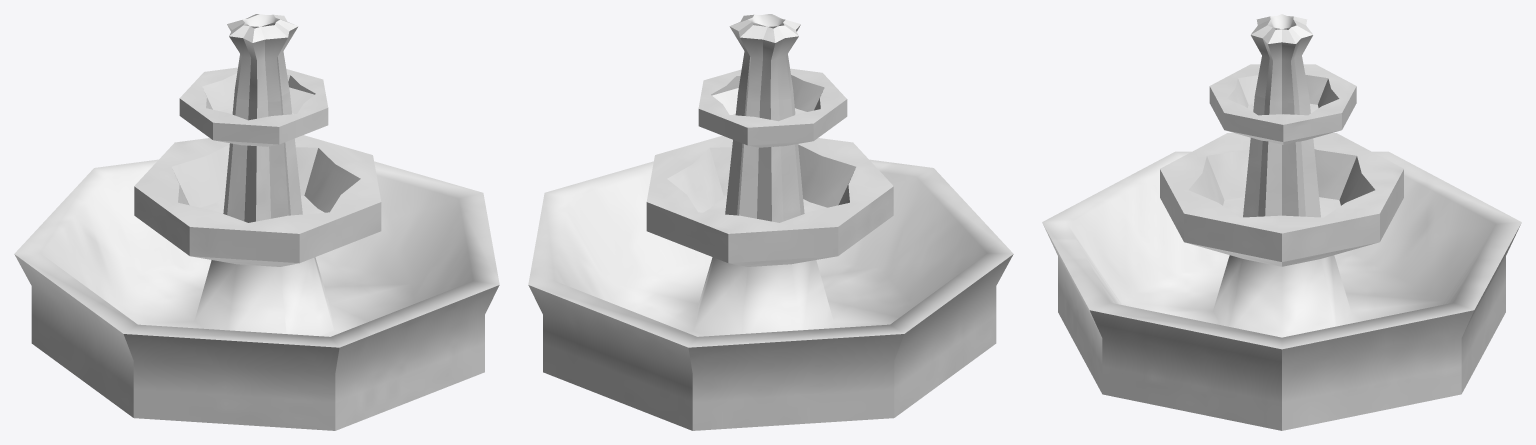
Rendered from Fountain.fbx.
3 views of the same model, side by side, from view 1: azimuth 30°, elevation 25°; view 2: azimuth 150°, elevation 25°; view 3: azimuth 270°, elevation 25° (orthographic). The views are drawn at different scales.
Visible parts, largest first — view 1: pCylinder3; view 2: pCylinder3; view 3: pCylinder3.
Boxes of the visible parts, box(x1,y1,x2,y2) form: pCylinder3: box(14, 14, 499, 430); pCylinder3: box(528, 14, 1013, 430); pCylinder3: box(1042, 14, 1521, 430).
Size of the model in its own units: 343 by 252 by 352.
1 material, 1 textured.
